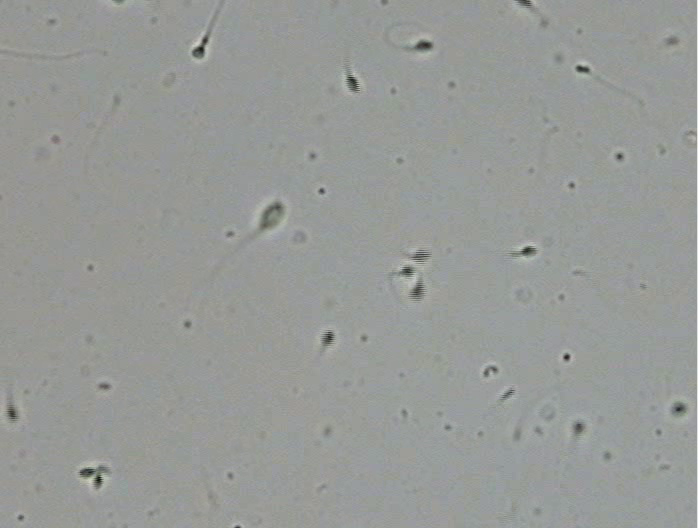S: (260, 202, 285, 230), (408, 282, 425, 302), (345, 73, 361, 94), (410, 249, 432, 264), (320, 330, 335, 347), (5, 404, 19, 422), (399, 265, 416, 278), (415, 40, 433, 52), (520, 246, 538, 258), (191, 45, 205, 59), (91, 474, 104, 489), (672, 402, 686, 415), (575, 64, 591, 74), (515, 1, 533, 9), (573, 422, 584, 434), (79, 468, 95, 476)
